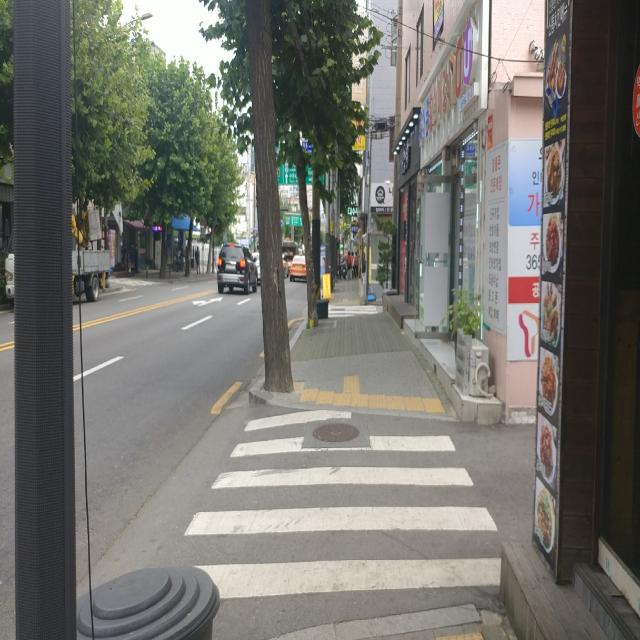횡단보도: (182, 408, 504, 603)
